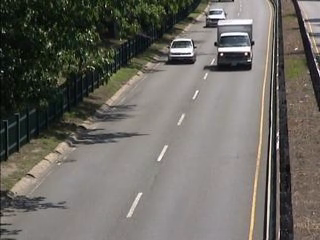car: (167, 38, 198, 66), (204, 9, 230, 29)
truck: (215, 20, 257, 72)
